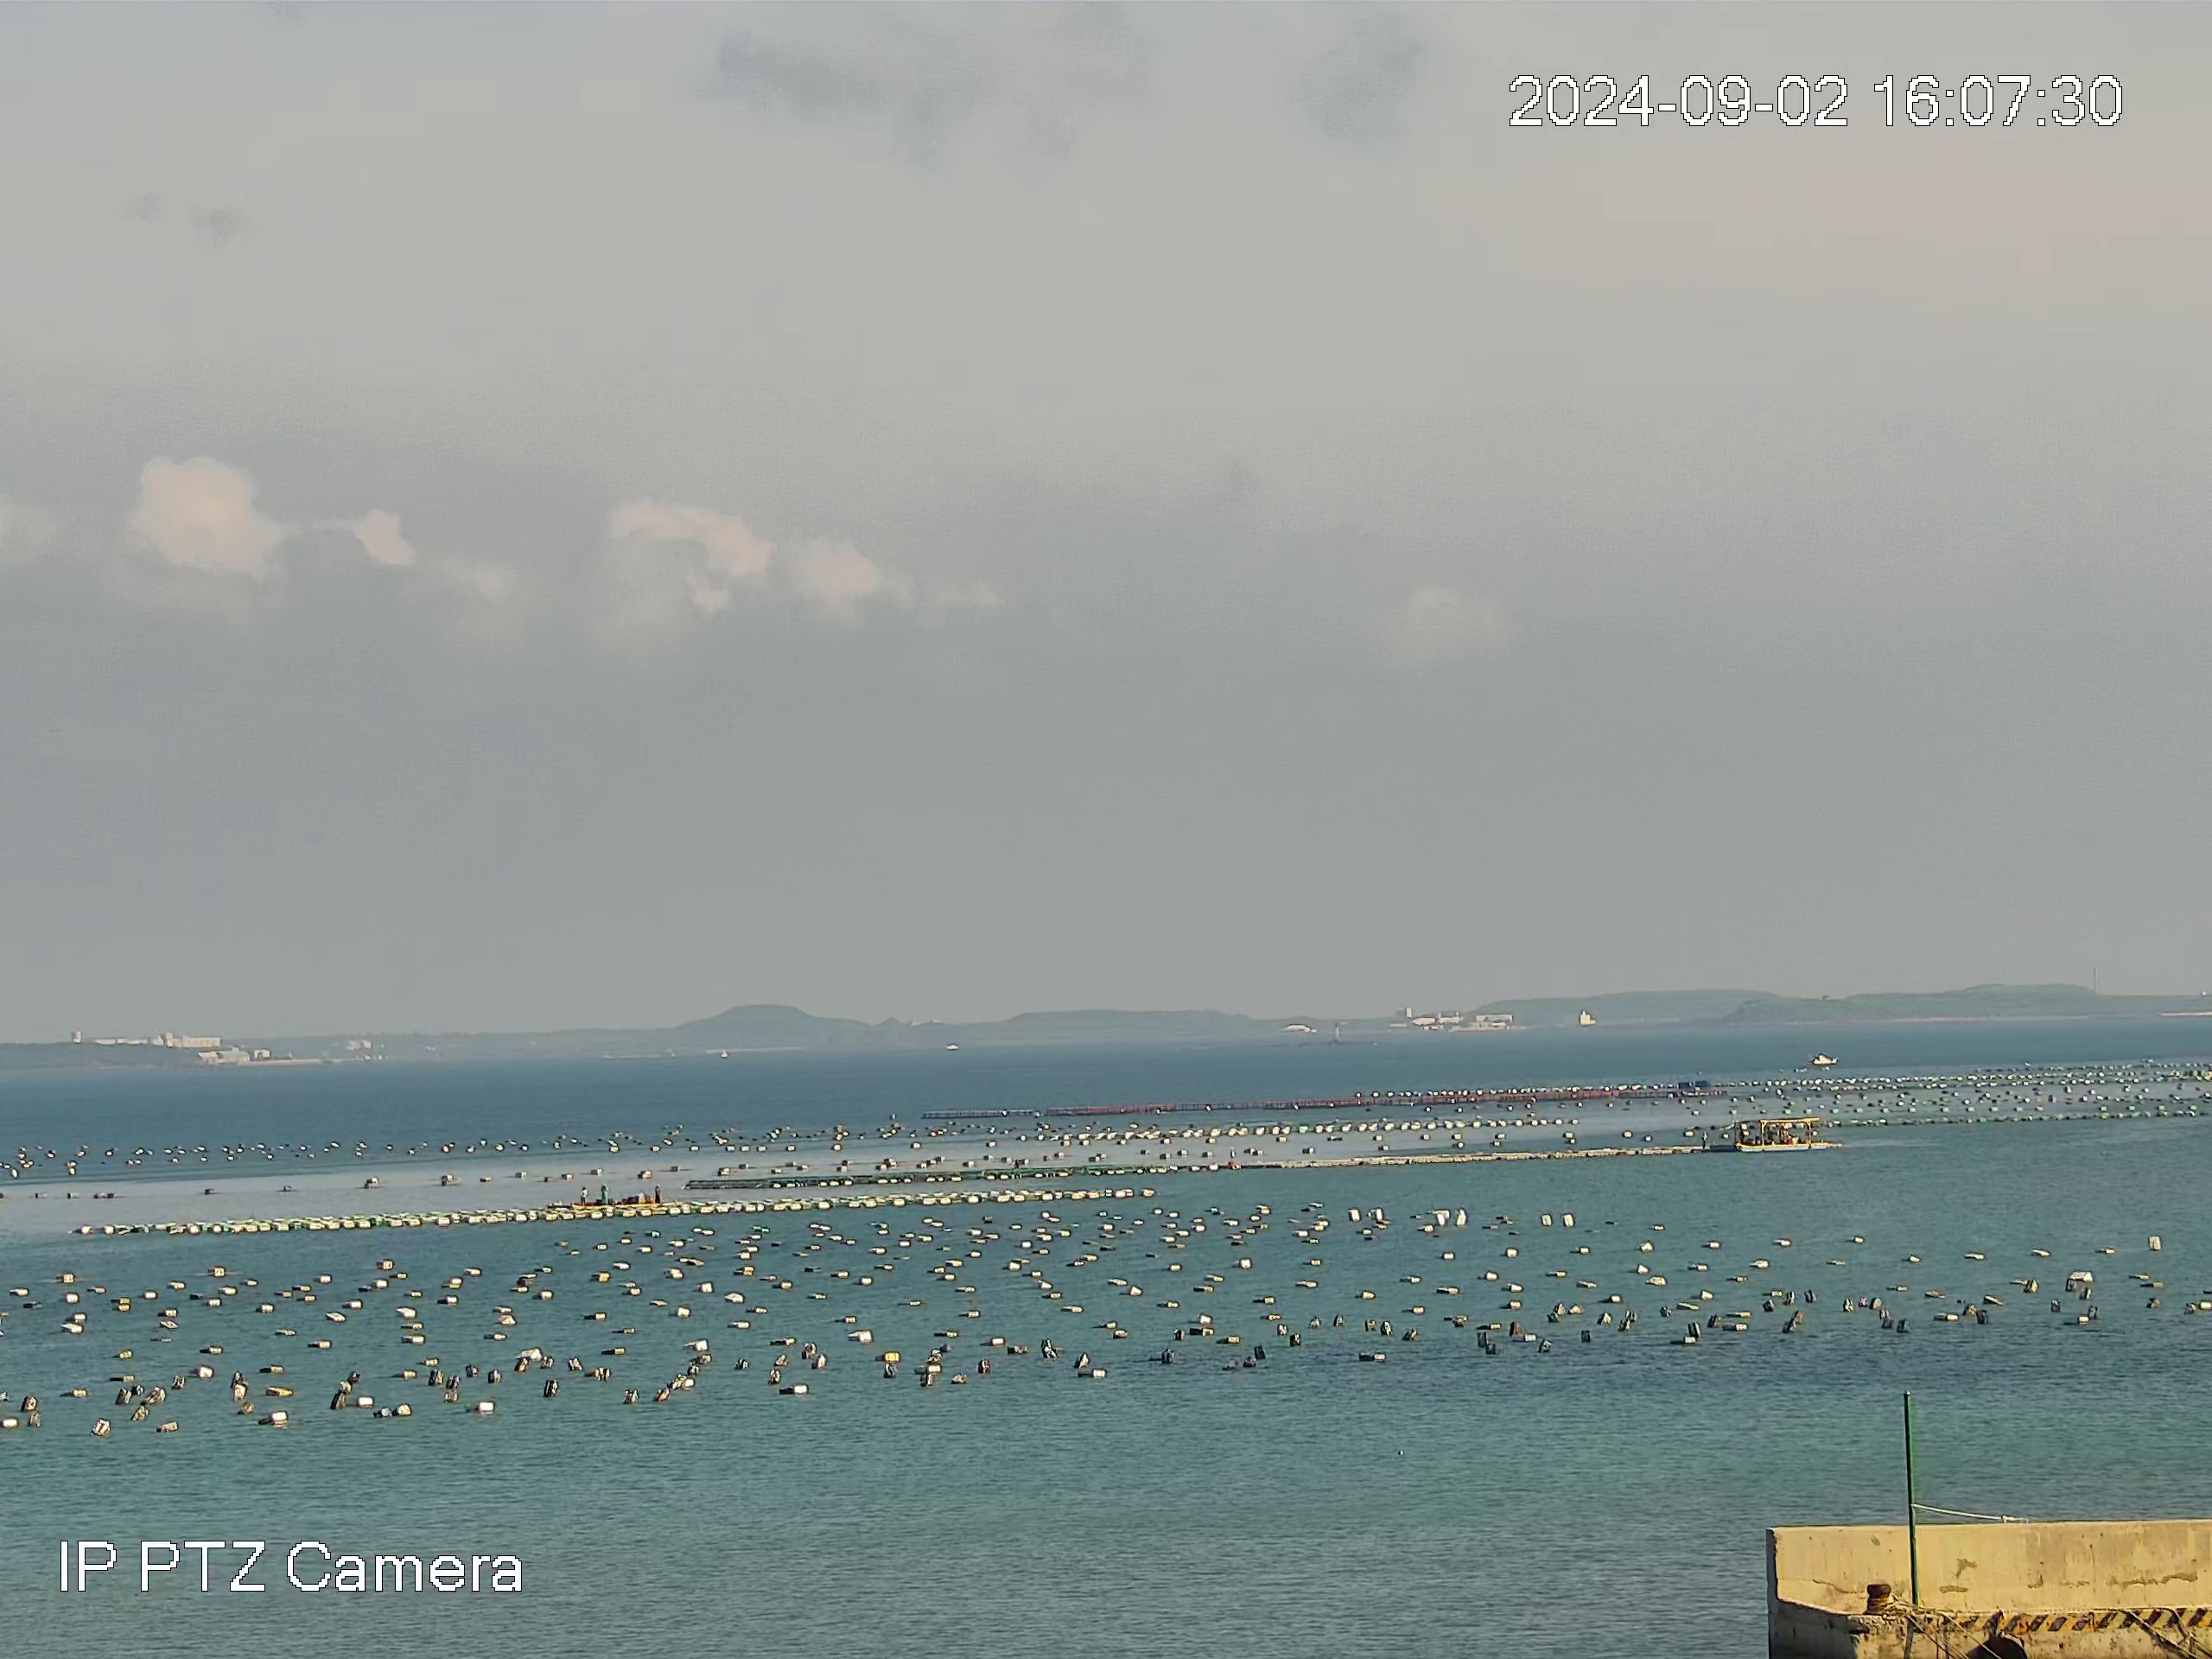boat: (1733, 1115, 1831, 1154), (570, 1183, 664, 1209), (1810, 1051, 1839, 1066)
